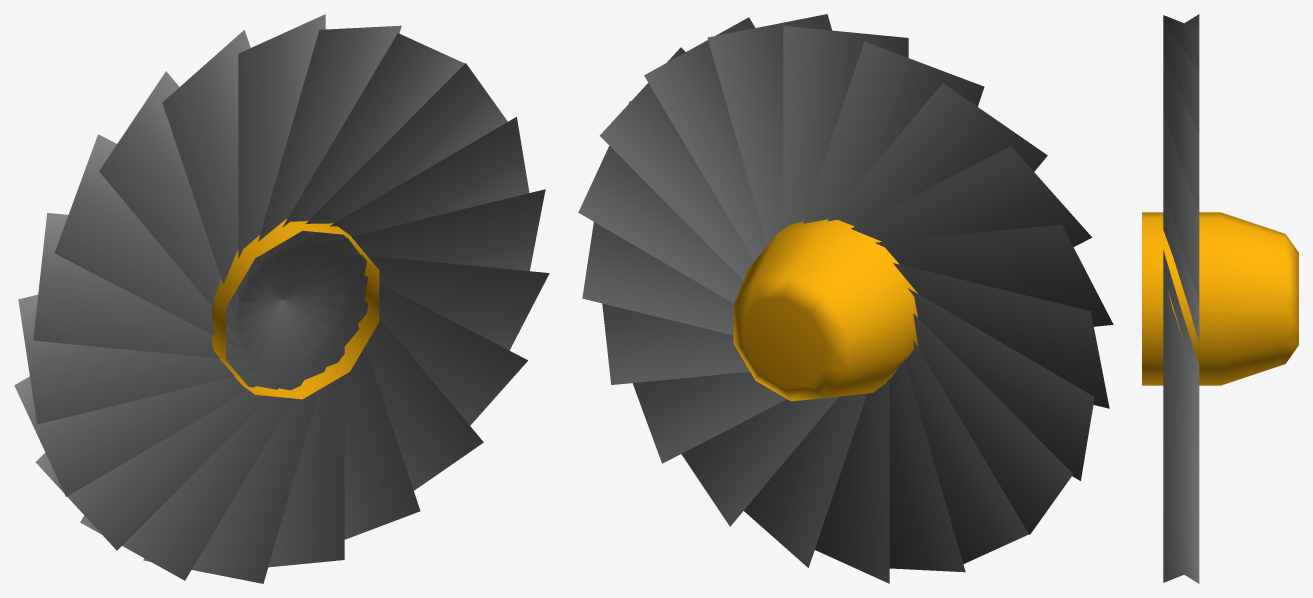
File: Drone_012_propeller_001.fbx
3 views of the same model, side by side, from view 1: azimuth 30°, elevation 25°; view 2: azimuth 150°, elevation 25°; view 3: azimuth 270°, elevation 25° (orthographic). The views are drawn at different scales.
Visible parts, largest first — view 1: Drone_012_propeller_001; view 2: Drone_012_propeller_001; view 3: Drone_012_propeller_001.
Part boxes in pixels (x1,y1,x2,y2): Drone_012_propeller_001: (14,14,549,583); Drone_012_propeller_001: (578,14,1113,583); Drone_012_propeller_001: (1142,14,1298,583).
Bounding box in the file's own units: 11.55 × 3.2 × 11.55.
